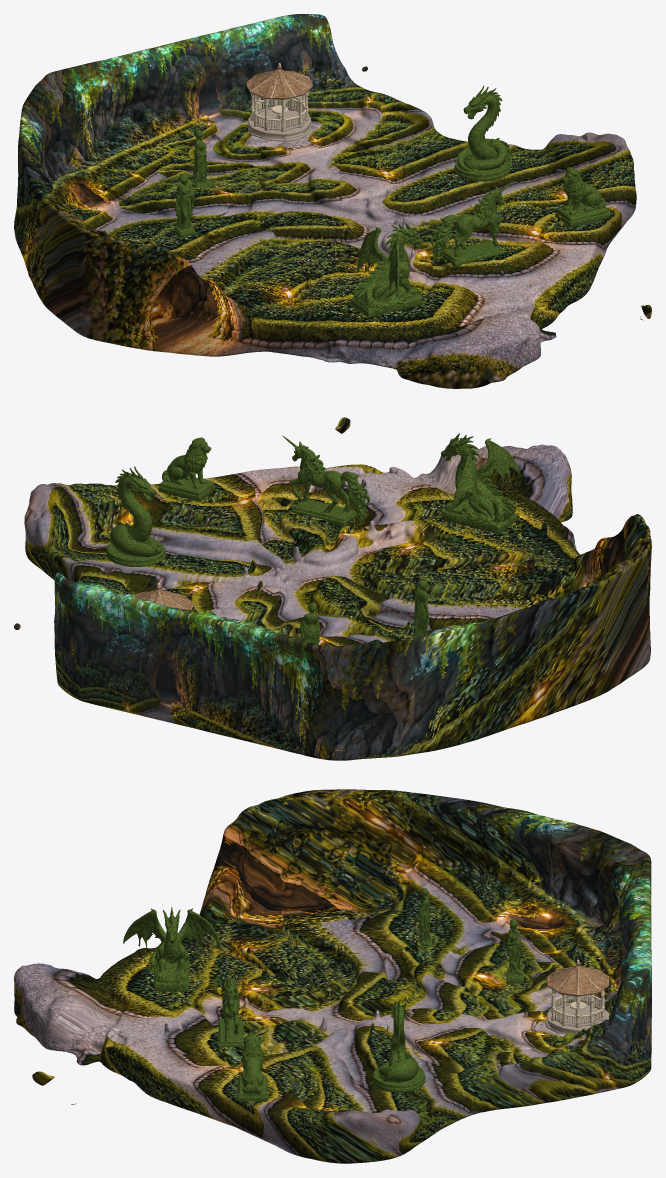
The model's file is garden-centered-topiary.glb.
The picture shows the model from 3 angles, top to bottom: view 1: azimuth 30°, elevation 25°; view 2: azimuth 150°, elevation 25°; view 3: azimuth 270°, elevation 25°; orthographic projection. The views are drawn at different scales.
Parts seen in each view (by area): view 1: garden-shell - original generated mesh, dragon - original generated mesh, gazebo - original generated mesh, serpent - original generated mesh, unicorn - original generated mesh, dog - original generated mesh, woman-rose - original generated mesh, woman-violet - original generated mesh; view 2: garden-shell - original generated mesh, dragon - original generated mesh, unicorn - original generated mesh, serpent - original generated mesh, dog - original generated mesh, gazebo - original generated mesh, woman-rose - original generated mesh, woman-violet - original generated mesh; view 3: garden-shell - original generated mesh, dragon - original generated mesh, gazebo - original generated mesh, serpent - original generated mesh, dog - original generated mesh, unicorn - original generated mesh, woman-violet - original generated mesh, woman-rose - original generated mesh.
Boxes of the visible parts, box(x1,y1,x2,y2) form: garden-shell - original generated mesh: box(14, 14, 651, 388); dragon - original generated mesh: box(351, 222, 422, 317); gazebo - original generated mesh: box(246, 63, 312, 141); serpent - original generated mesh: box(454, 85, 511, 181); unicorn - original generated mesh: box(430, 180, 513, 267); dog - original generated mesh: box(555, 167, 609, 227); woman-rose - original generated mesh: box(173, 174, 195, 237); woman-violet - original generated mesh: box(191, 129, 214, 188); garden-shell - original generated mesh: box(14, 417, 651, 760); dragon - original generated mesh: box(441, 433, 519, 533); unicorn - original generated mesh: box(282, 435, 370, 526); serpent - original generated mesh: box(106, 466, 165, 566); dog - original generated mesh: box(158, 437, 215, 501); gazebo - original generated mesh: box(133, 583, 193, 609); woman-rose - original generated mesh: box(412, 579, 429, 637); woman-violet - original generated mesh: box(300, 602, 320, 644); garden-shell - original generated mesh: box(14, 789, 651, 1163); dragon - original generated mesh: box(123, 907, 220, 991); gazebo - original generated mesh: box(545, 959, 609, 1034); serpent - original generated mesh: box(372, 1001, 425, 1092); dog - original generated mesh: box(237, 1033, 267, 1101); unicorn - original generated mesh: box(218, 977, 243, 1046); woman-violet - original generated mesh: box(506, 919, 523, 983); woman-rose - original generated mesh: box(417, 888, 432, 947).
Bounding box in the file's own units: 30 × 5.6 × 29.84.
Materials: 8 (8 with a texture image).
